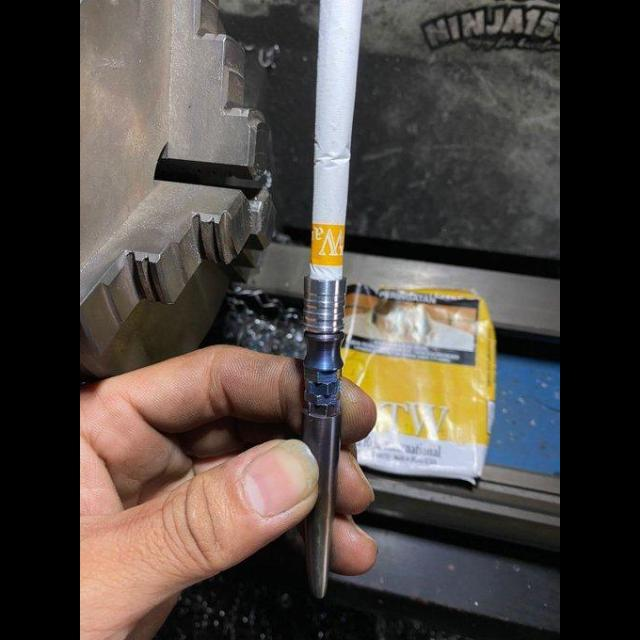rokok: (303, 1, 361, 286)
